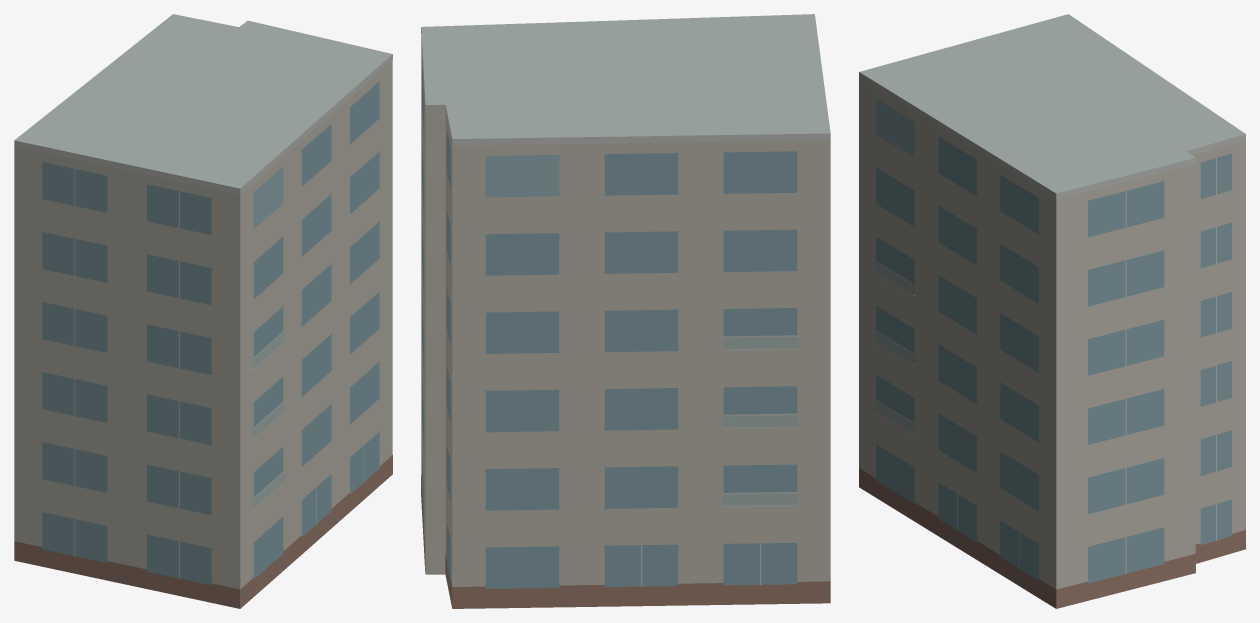
File: survey-upis-32913562.glb
3 views of the same model, side by side, from view 1: azimuth 30°, elevation 25°; view 2: azimuth 150°, elevation 25°; view 3: azimuth 270°, elevation 25° (orthographic). The views are drawn at different scales.
Visible parts, largest first — view 1: survey-upis-32913562.tmp; view 2: survey-upis-32913562.tmp; view 3: survey-upis-32913562.tmp.
Boxes of the visible parts, x1,y1,x2,y2 form: survey-upis-32913562.tmp: (14, 14, 392, 608); survey-upis-32913562.tmp: (421, 14, 830, 608); survey-upis-32913562.tmp: (859, 14, 1245, 608).
Bounding box in the file's own units: 15.91 × 17.15 × 14.48.
